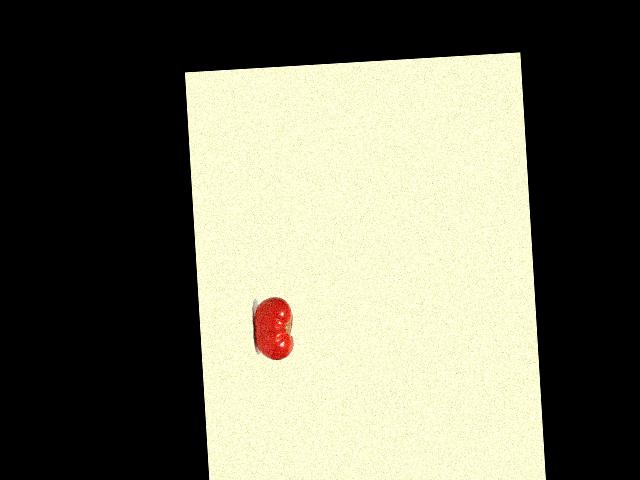tomato: (253, 296, 295, 361)
